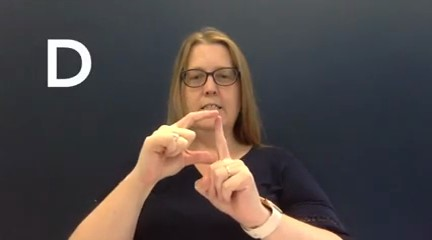D: (134, 106, 261, 228)
